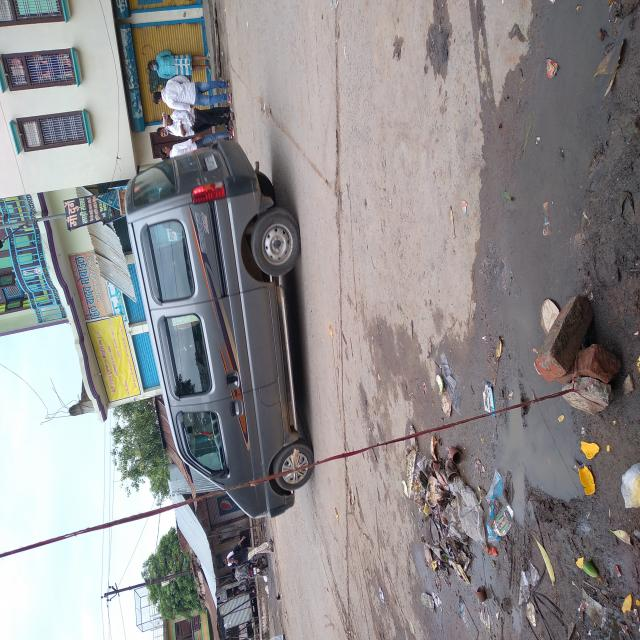Car: (84, 172, 374, 421)
